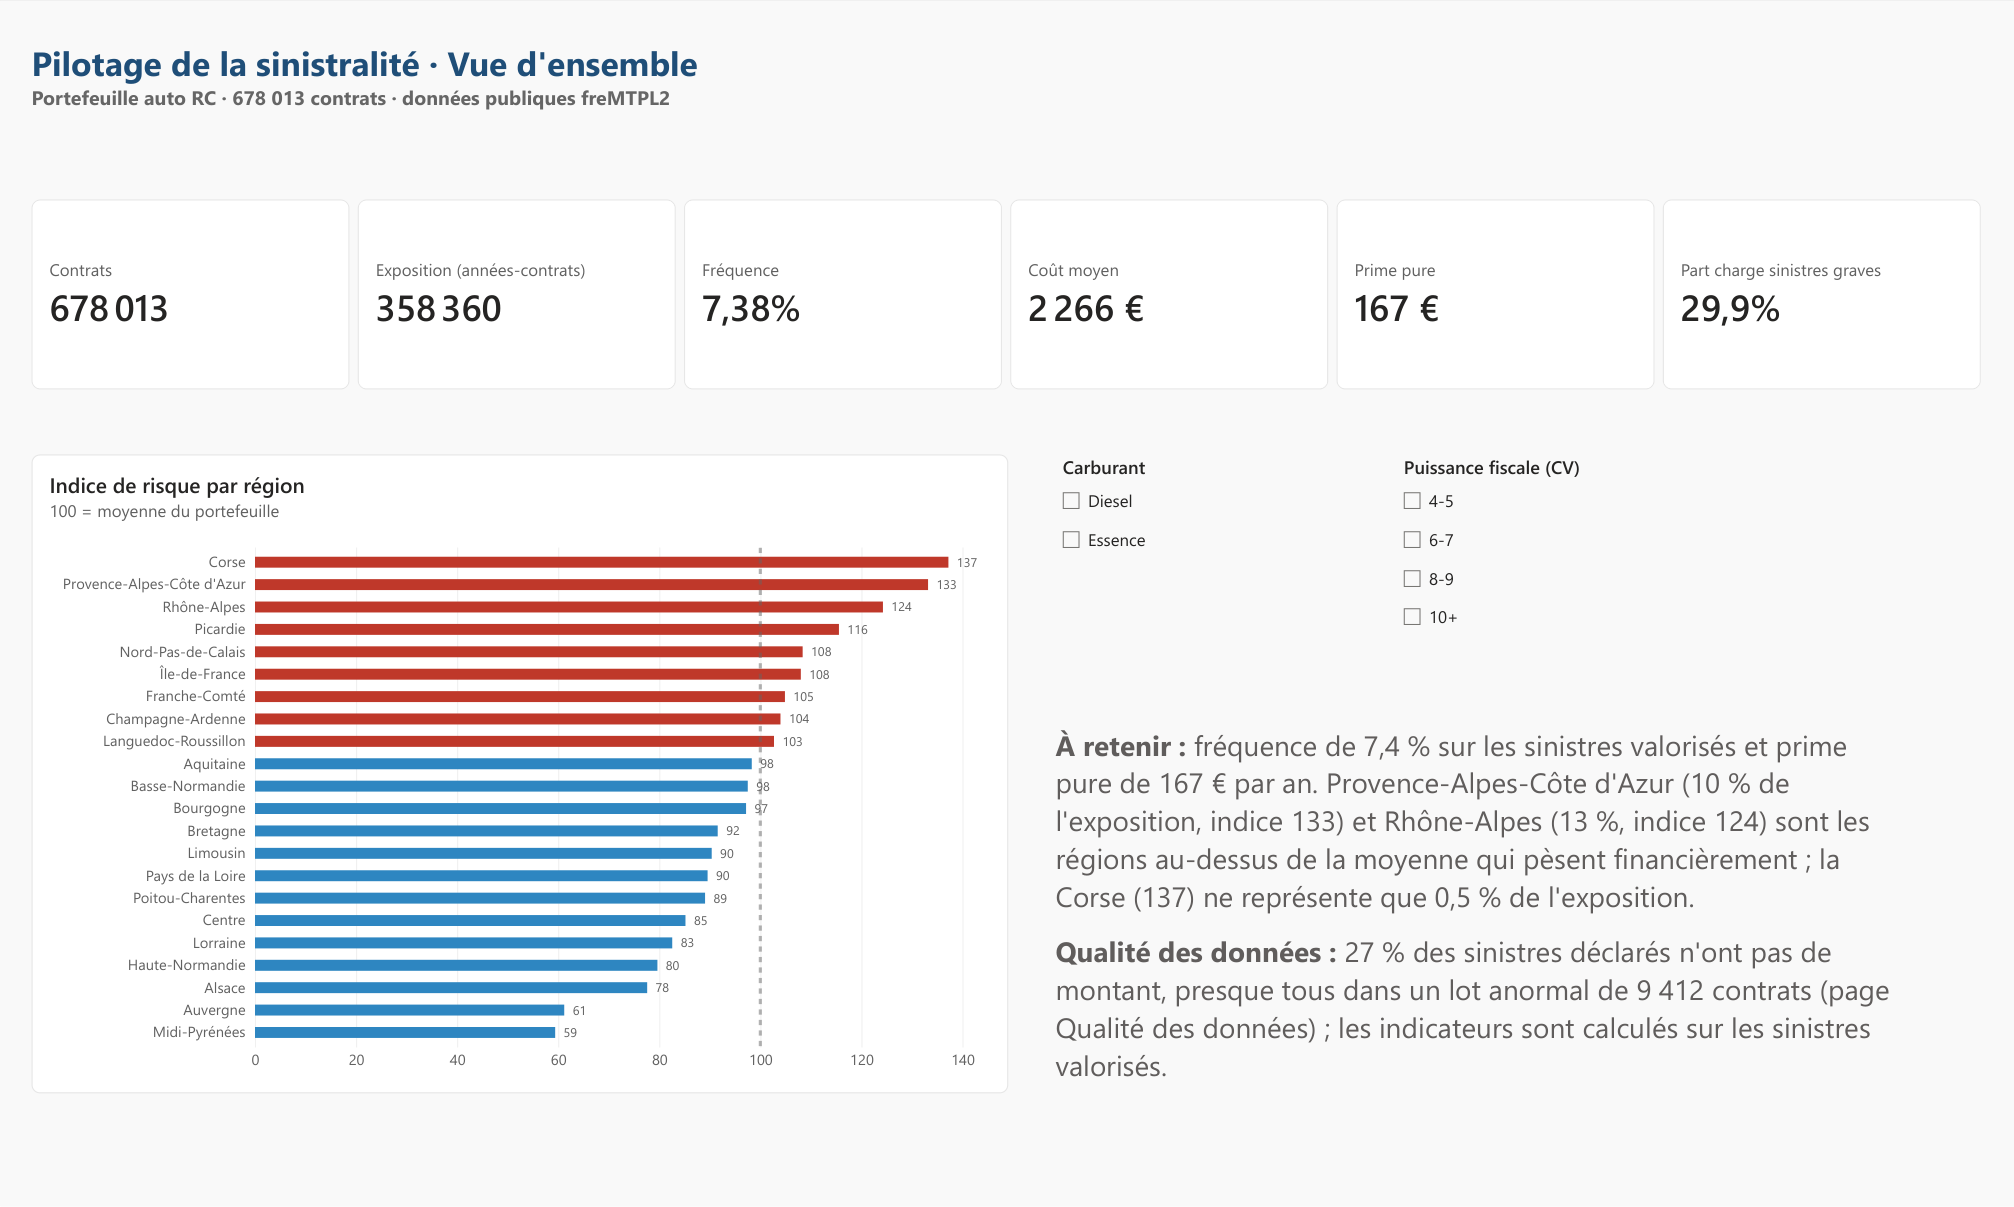

The dashboard page shown, as its layout file describes it:
{"tool":"powerbi","page":{"name":"Vue d'ensemble","canvas":[1920,1150],"ordinal":1},"visuals":[{"type":"cardVisual","fields":{"Data":["_Mesures.Carte contrats","_Mesures.Carte exposition","_Mesures.Fréquence","_Mesures.Carte coût moyen","_Mesures.Carte prime pure","_Mesures.Part charge sinistres graves"]},"box":[29.7,189.6,1863.3,181.8],"z":0},{"type":"clusteredBarChart","title":"Indice de risque par région","fields":{"Category":["dim_region.region_name"],"Y":["_Mesures.Indice de risque"]},"box":[29.7,432.9,931.2,609.4],"z":1},{"type":"slicer","fields":{"Values":["dim_fuel.fuel_label"]},"box":[1004.7,432.9,239.1,174.4],"z":2},{"type":"slicer","fields":{"Values":["dim_vehicle_power_band.vehicle_power_band"]},"box":[1329.7,432.9,239.1,174.4],"z":3},{"type":"textbox","box":[1005.6,690.7,800,351.9],"z":4},{"type":"textbox","box":[30.1,36.7,1863.5,106.9],"z":5}]}

Visuals, with their boxes in screenshot pixels (x1, y1, x2, y2), scaled from the page's 1920x1150 canvas onto the 2014x1207 screenshot:
cardVisual - _Mesures.Carte contrats x _Mesures.Carte exposition: 31,199,1986,390
"Indice de risque par région" clusteredBarChart: 31,454,1008,1094
slicer - dim_fuel.fuel_label: 1054,454,1305,637
slicer - dim_vehicle_power_band.vehicle_power_band: 1395,454,1646,637
textbox: 1055,725,1894,1094
textbox: 32,39,1986,151
